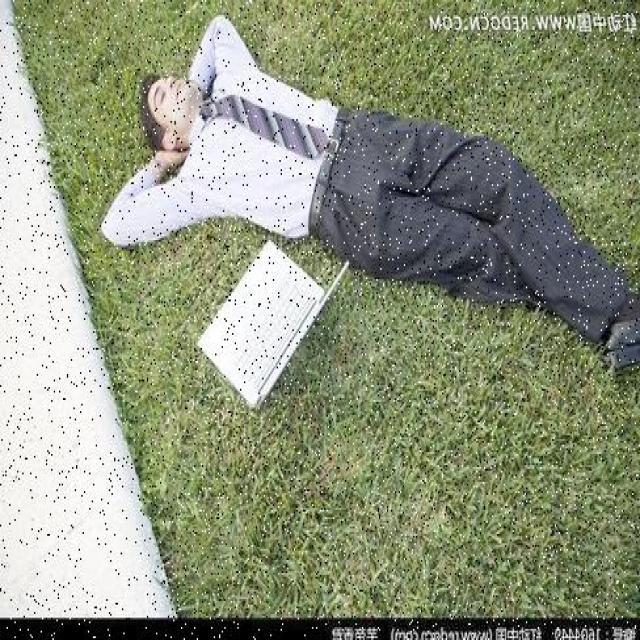fall: (118, 26, 631, 361)
